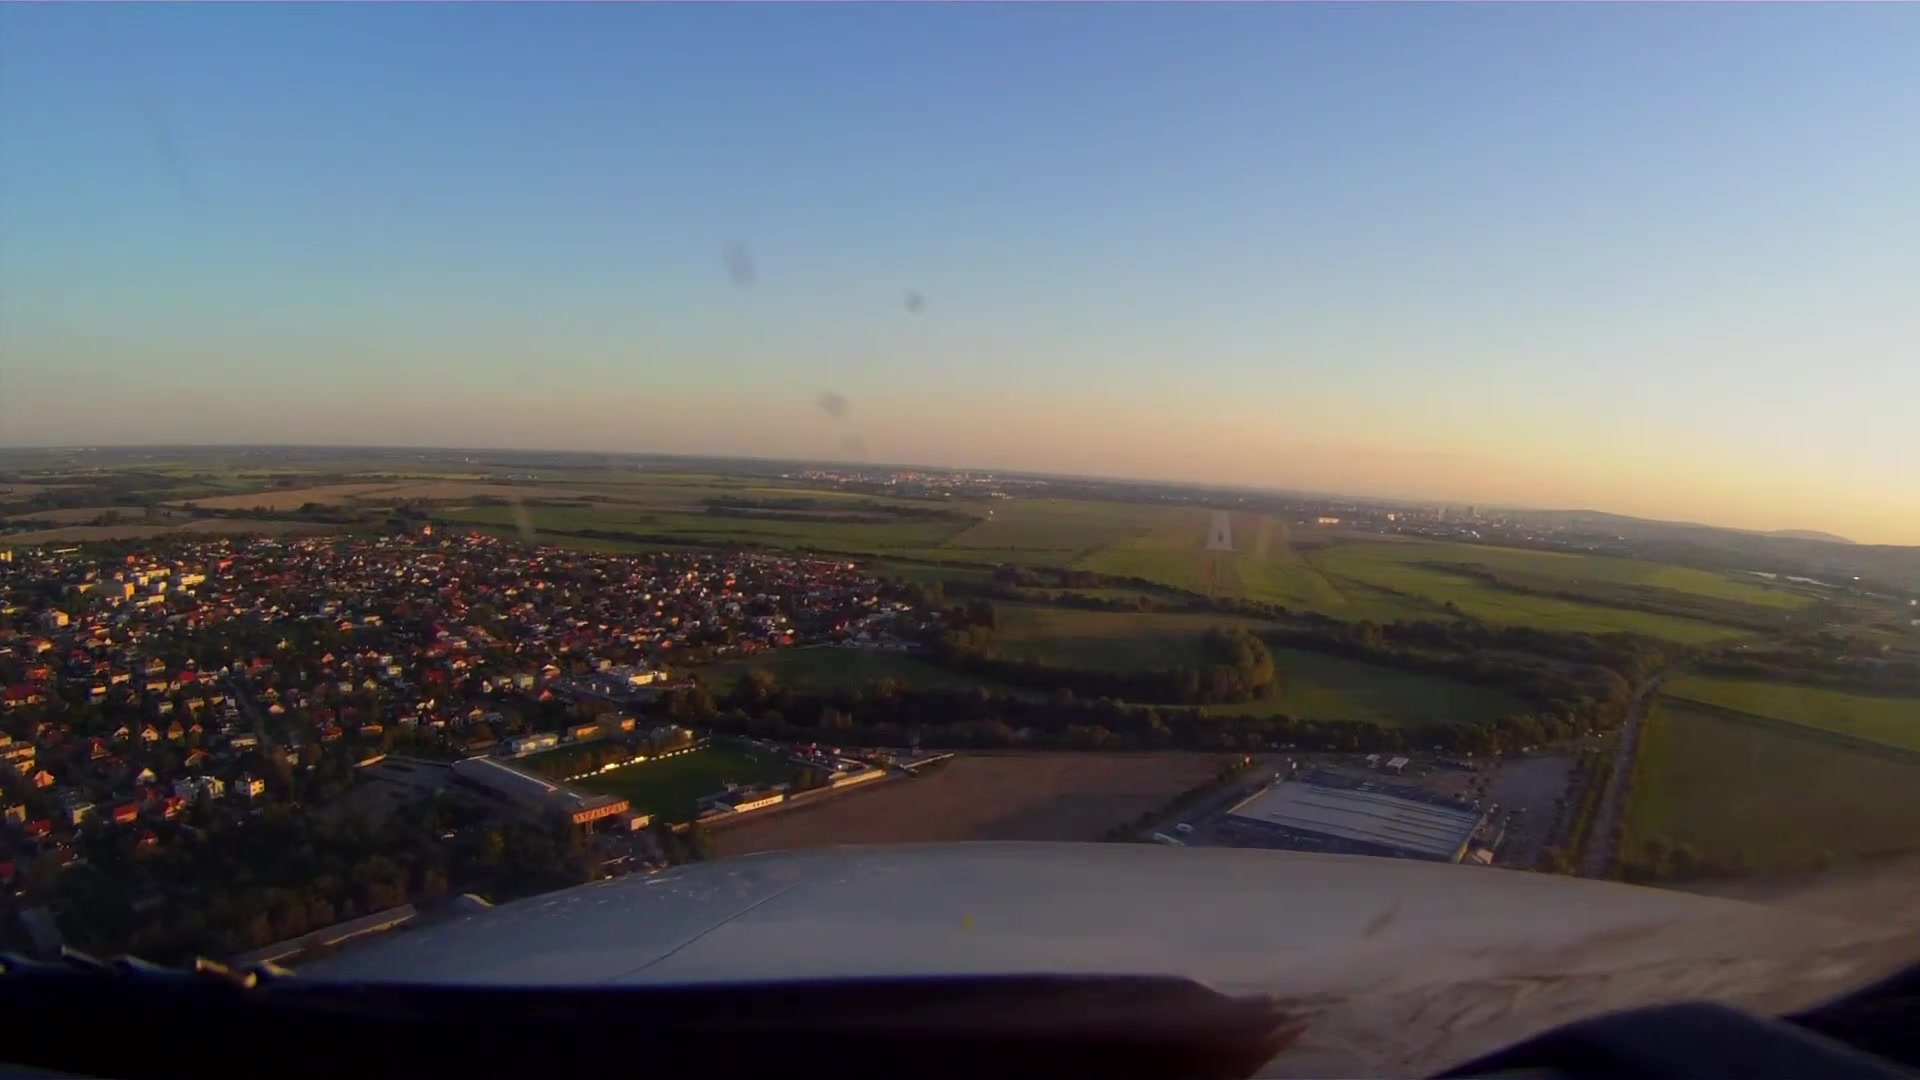runway: (1201, 510, 1236, 554)
